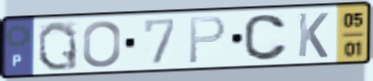7: (141, 16, 178, 67)
C: (242, 13, 291, 62)
K: (296, 11, 331, 60)
O: (81, 19, 123, 69)
P: (187, 14, 228, 66)
Q: (36, 19, 80, 73)
